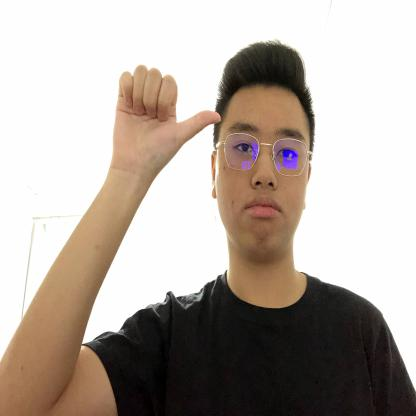left: (112, 62, 223, 176)
